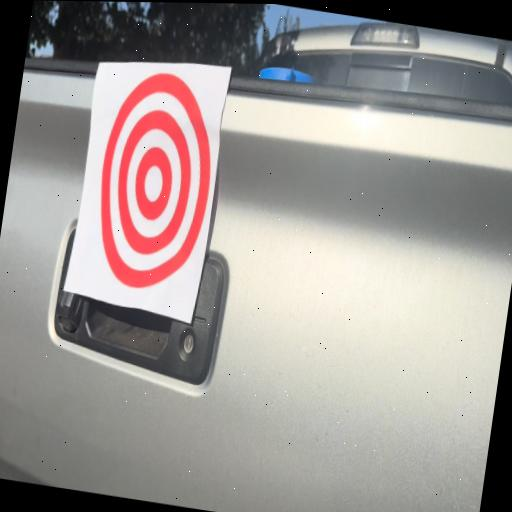bullseye: (80, 62, 230, 325)
